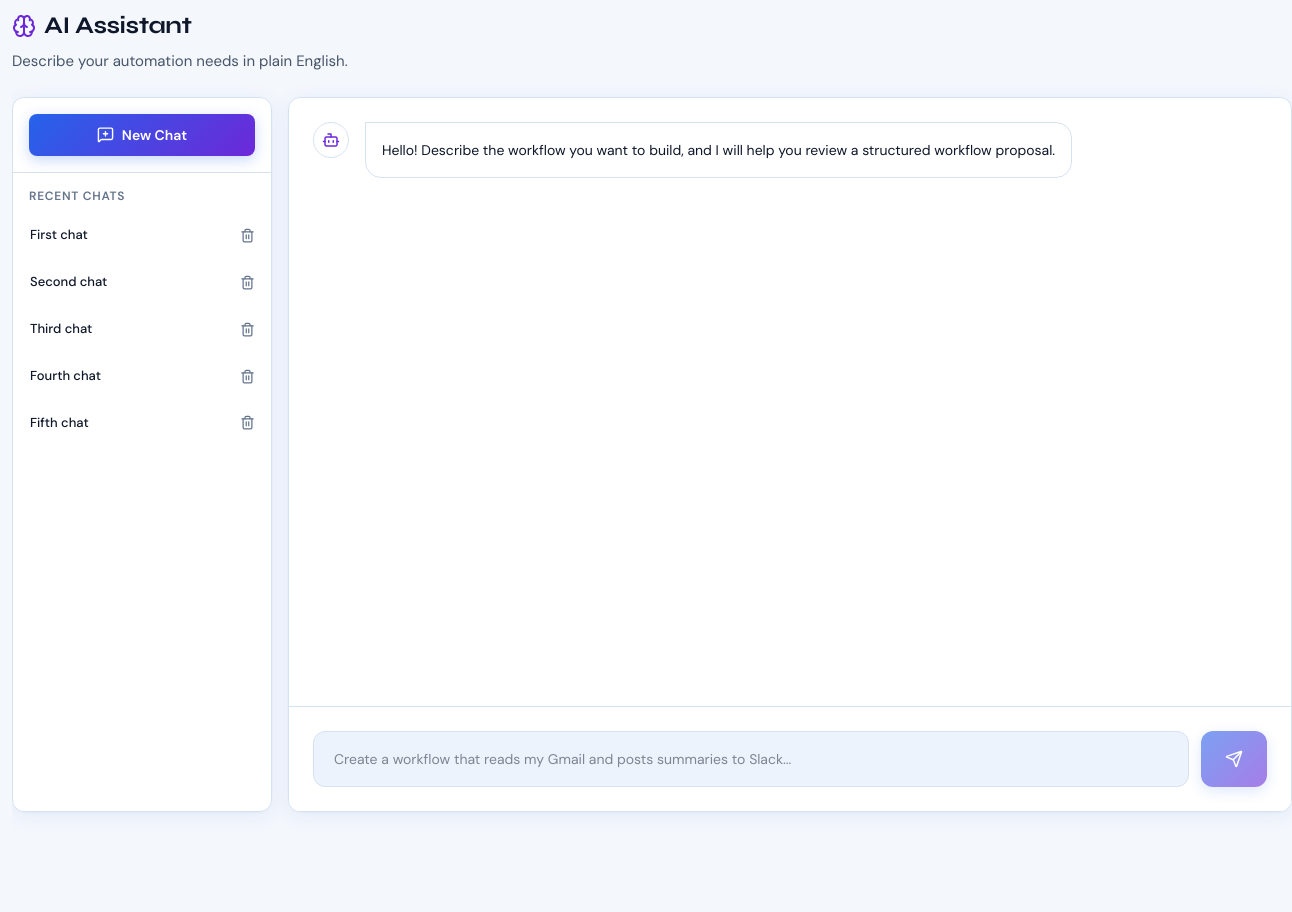
Assistant conversation persistence and chat management › opens a previous conversation without creating a new one
The image size is (1292, 912).
Click the button "Second chat" at coordinates (124, 283), box left=22, top=262, right=227, bottom=303
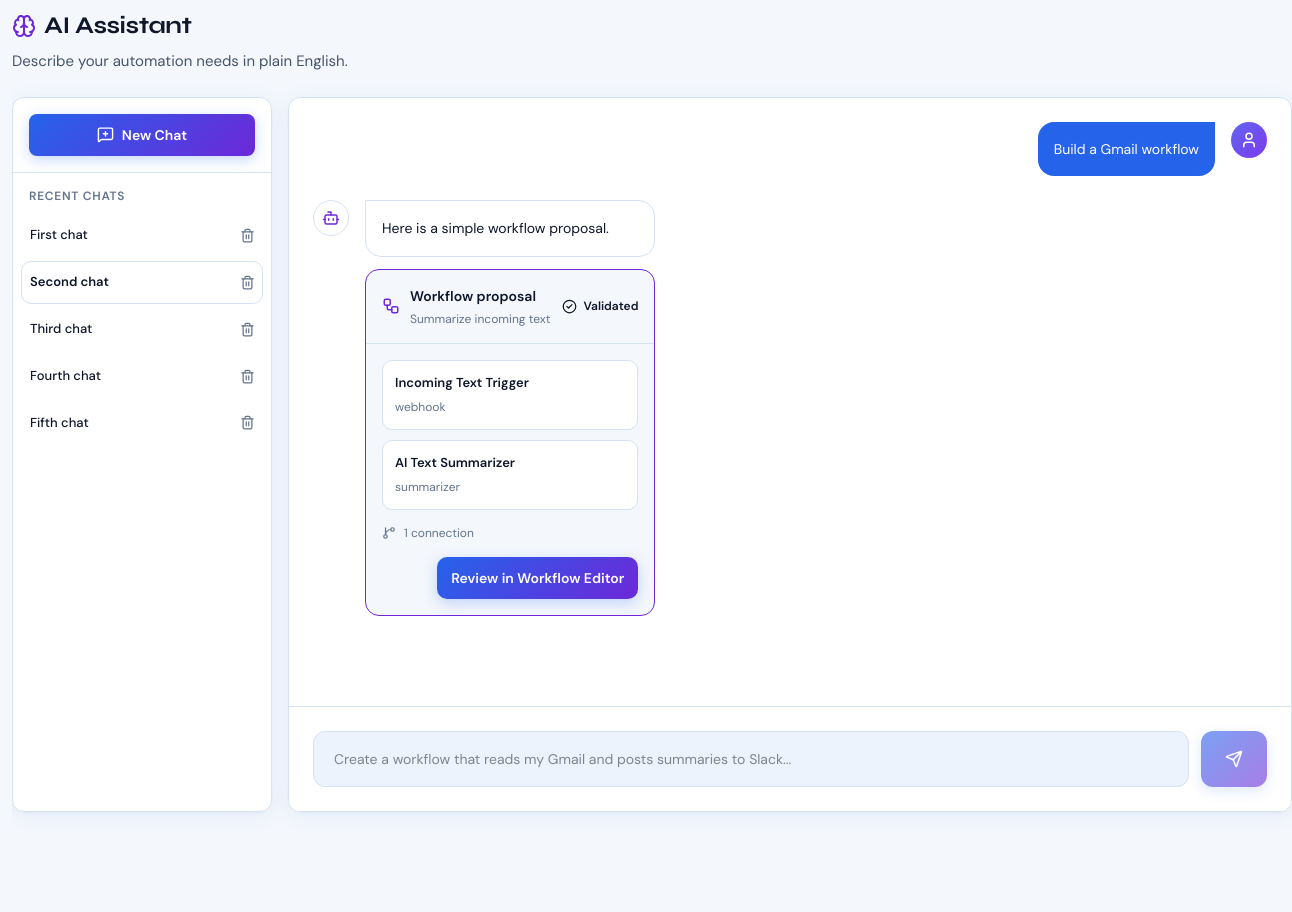
expect the text "Build a Gmail workflow" is shown: met, box left=1038, top=122, right=1215, bottom=176
expect the element "Workflow proposal" is shown: met, box left=365, top=269, right=655, bottom=616
expect the text "Incoming Text Trigger" is shown: met, box left=395, top=374, right=529, bottom=391
